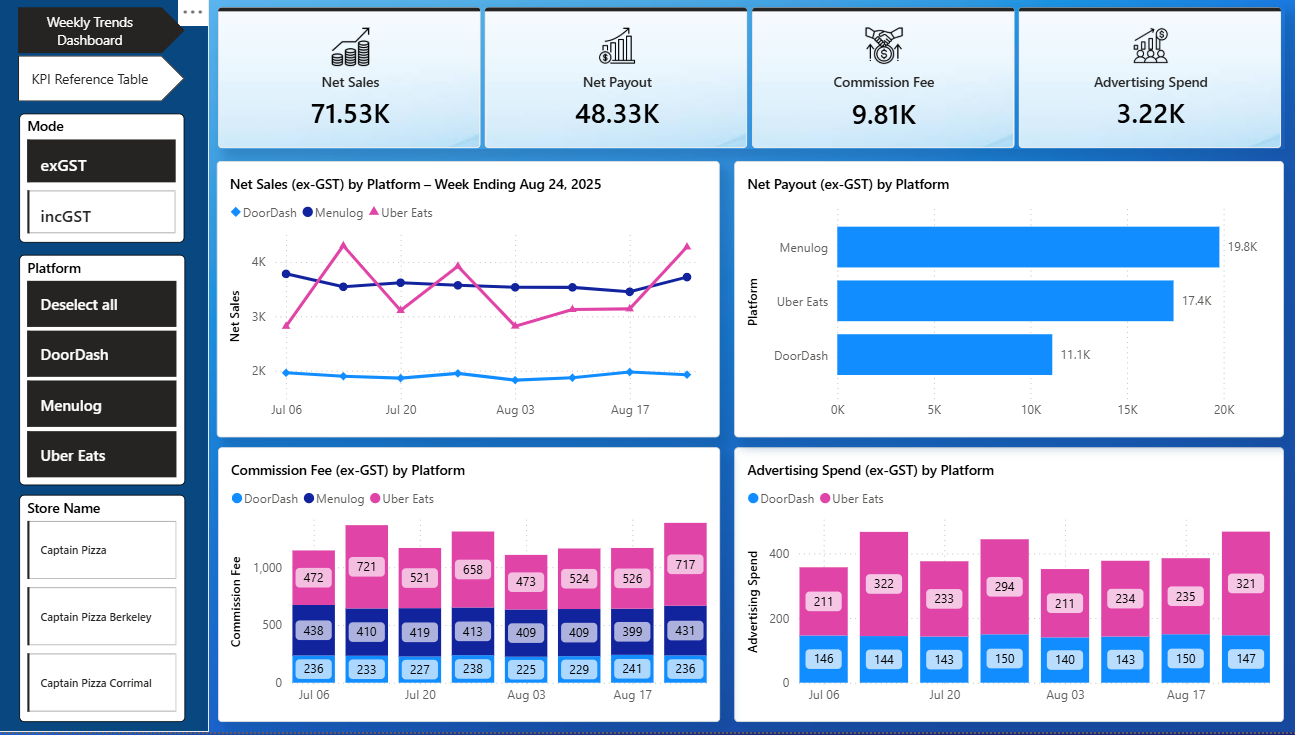

This screenshot's page, from the dashboard's own definition file:
{"tool":"powerbi","page":{"name":"Weekly Trends Dashboard","canvas":[1280,720],"ordinal":0},"visuals":[{"type":"shape","box":[0,0,211.2,720],"z":0},{"type":"advancedSlicerVisual","fields":{"Values":["GST_Toggle.Mode"]},"box":[26.2,115,161.2,126.2],"z":1000},{"type":"cardVisual","fields":{"Data":["_Measures.Net Sales","_Measures.Net Payout","_Measures.Commission Fee","_Measures.Advertising Spend"]},"box":[220,11.2,1043.8,138.8],"z":2000},{"type":"lineChart","fields":{"Y":["_Measures.Net Sales"],"Category":["Fact_Payouts_Aggregated.WeekEnd_Sunday"],"Series":["Fact_Payouts_Aggregated.Platform"]},"box":[219.5,161,492.2,270.1],"z":3000},{"type":"advancedSlicerVisual","fields":{"Values":["Dim_Platform.Platform"]},"box":[26,253.2,162.3,226],"z":4000},{"type":"lineStackedColumnComboChart","fields":{"Category":["Fact_Payouts_Aggregated.WeekEnd_Sunday"],"Y":["_Measures.Advertising Spend"],"Series":["Dim_Platform.Platform"]},"box":[725,441.2,537.5,268.8],"z":5000},{"type":"advancedSlicerVisual","fields":{"Values":["Dim_Store.Store Name"]},"box":[26,488.3,162.3,222.1],"z":6000},{"type":"pageNavigator","box":[25,11.2,163.8,93.8],"z":7000},{"type":"clusteredBarChart","fields":{"Category":["Dim_Platform.Platform"],"Y":["_Measures.Net Payout"]},"box":[725,161.2,537.5,270],"z":8000},{"type":"columnChart","fields":{"Y":["_Measures.Commission Fee"],"Category":["Fact_Payouts_Aggregated.WeekEnd_Sunday"],"Series":["Dim_Platform.Platform"]},"box":[220,441.2,491.2,268.8],"z":9000}]}

Visuals, with their boxes on the page's 1280x720 design canvas (x1, y1, x2, y2). These are canvas units, not pixel positions in the 1295x735 screenshot, which may show the page scaled, cropped or inside an application window:
shape: box(0, 0, 211, 720)
advancedSlicerVisual - GST_Toggle.Mode: box(26, 115, 187, 241)
cardVisual - _Measures.Net Sales x _Measures.Net Payout: box(220, 11, 1264, 150)
lineChart - _Measures.Net Sales x Fact_Payouts_Aggregated.WeekEnd_Sunday: box(220, 161, 712, 431)
advancedSlicerVisual - Dim_Platform.Platform: box(26, 253, 188, 479)
lineStackedColumnComboChart - Fact_Payouts_Aggregated.WeekEnd_Sunday x _Measures.Advertising Spend: box(725, 441, 1262, 710)
advancedSlicerVisual - Dim_Store.Store Name: box(26, 488, 188, 710)
pageNavigator: box(25, 11, 189, 105)
clusteredBarChart - Dim_Platform.Platform x _Measures.Net Payout: box(725, 161, 1262, 431)
columnChart - _Measures.Commission Fee x Fact_Payouts_Aggregated.WeekEnd_Sunday: box(220, 441, 711, 710)
